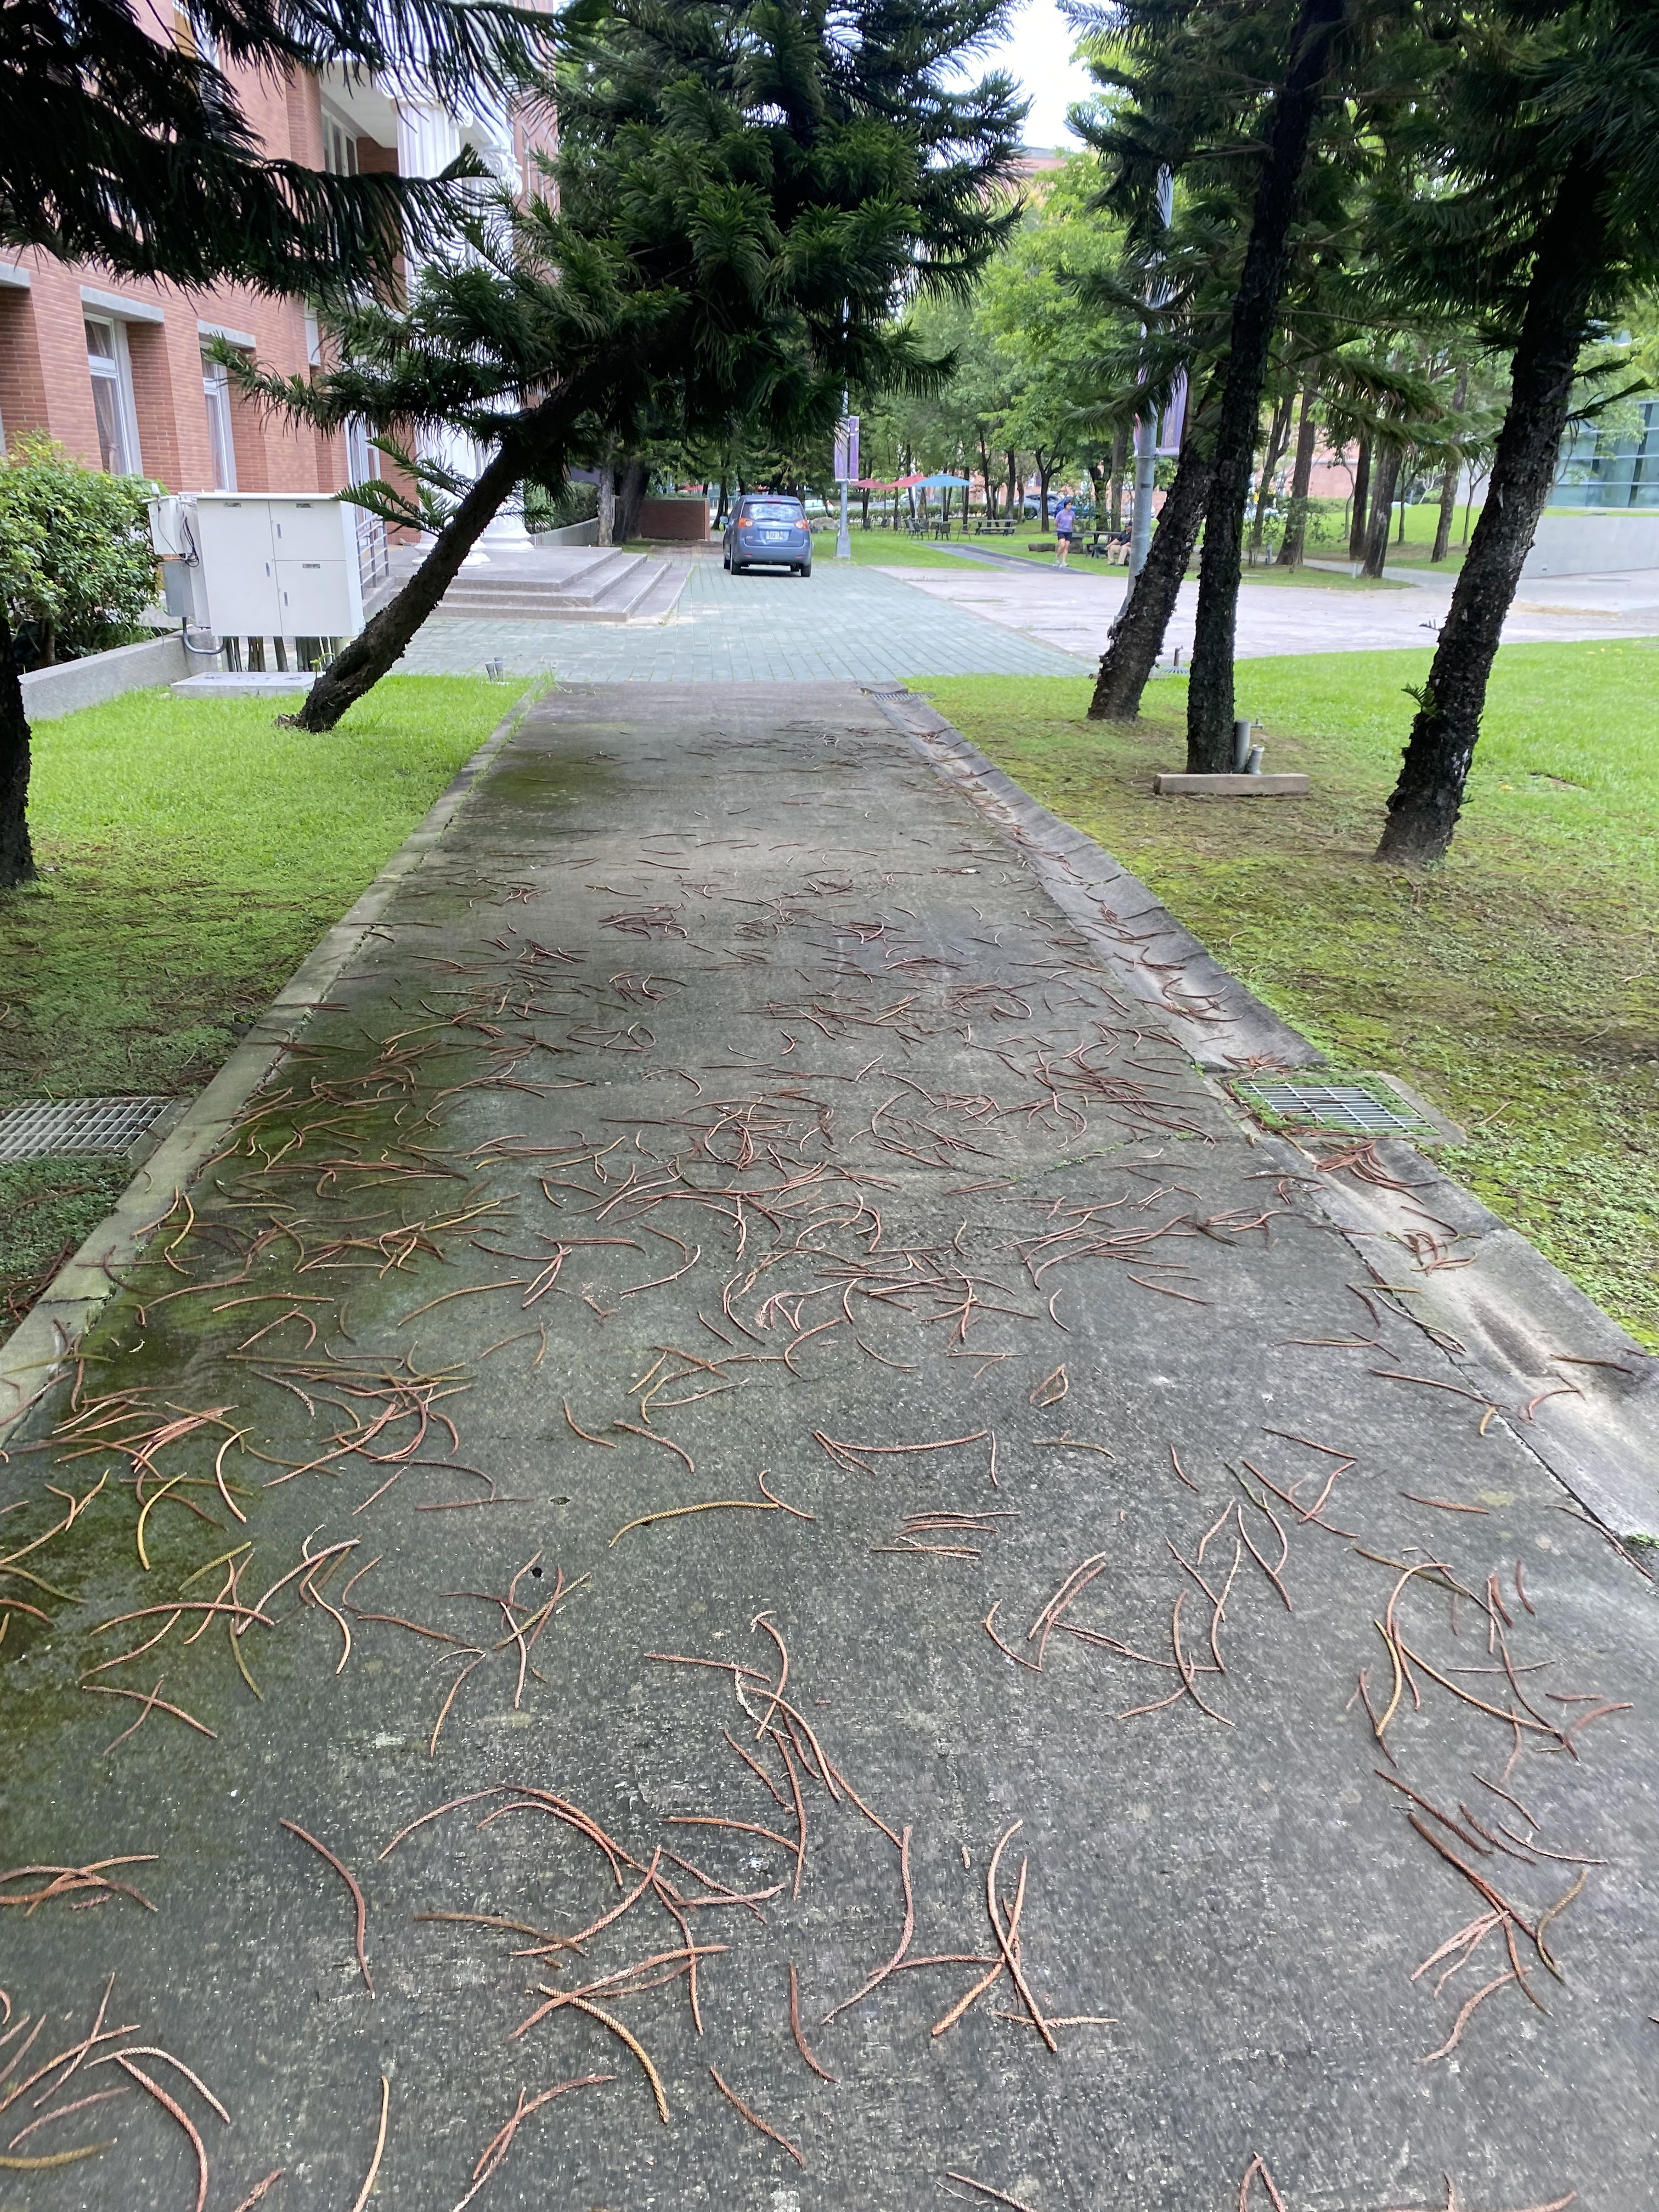0: (561, 547, 1047, 751)
sidewalk: (10, 650, 1659, 2212)
